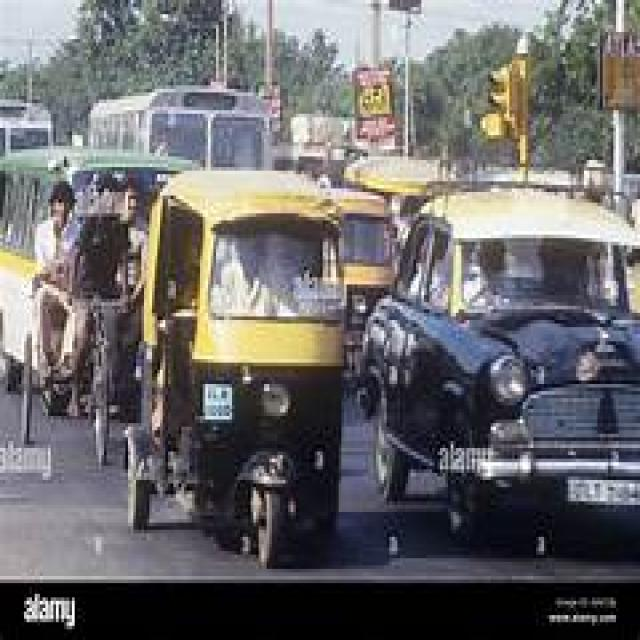Auto: (126, 173, 339, 566), (334, 188, 394, 372)
Bus: (89, 88, 269, 168)
Car: (362, 193, 640, 556)
